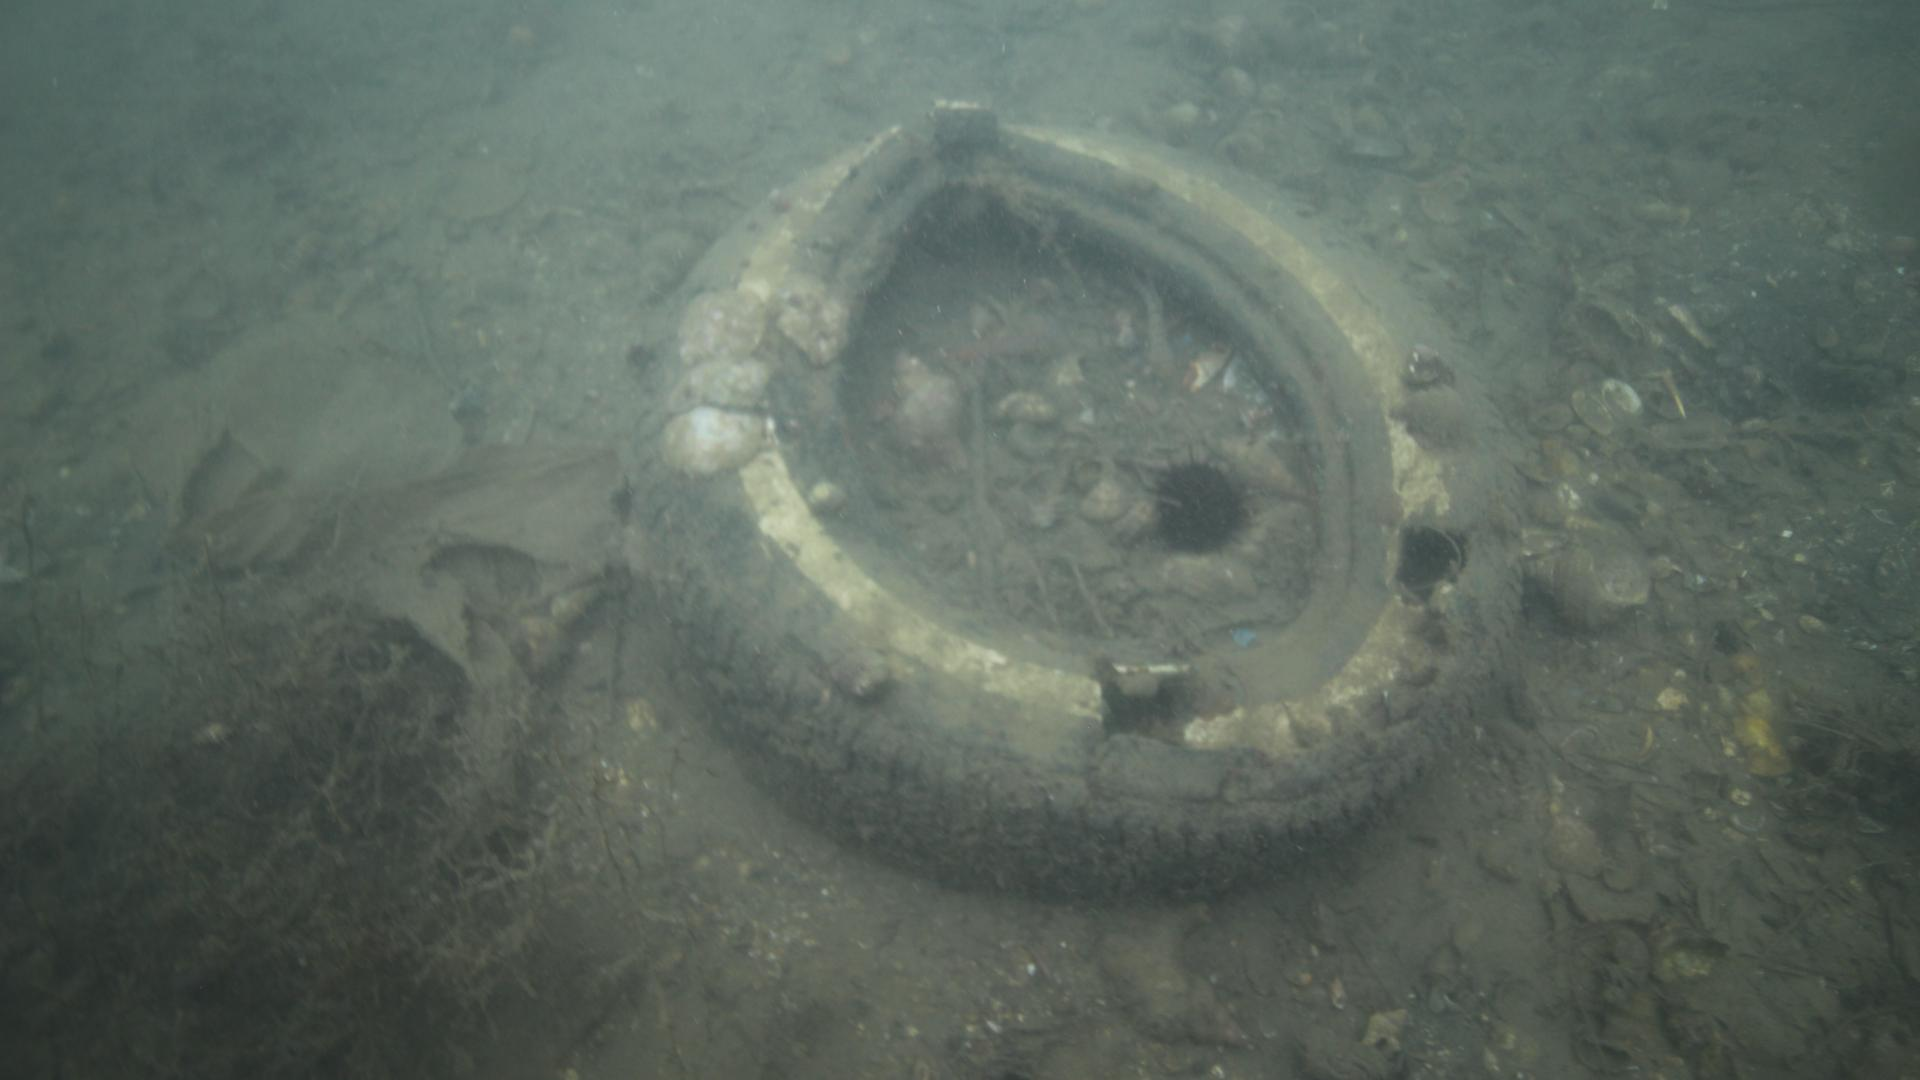tire: (632, 94, 1520, 907)
